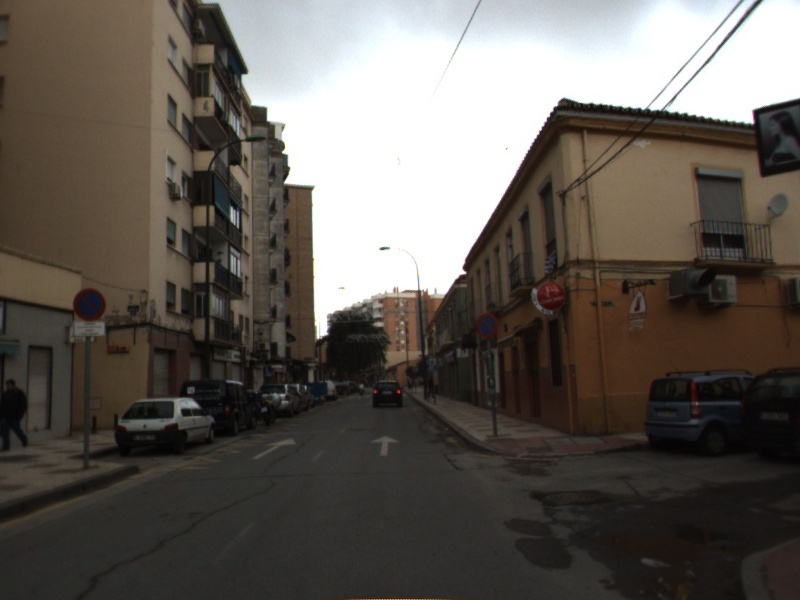STRAIGHT: (249, 435, 299, 462), (368, 433, 403, 458)
